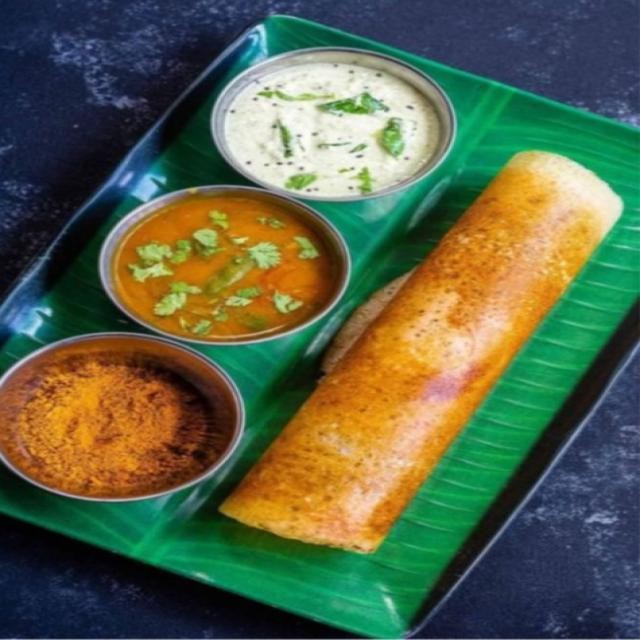DOSA: (213, 149, 621, 559)
PODI: (0, 334, 244, 503)
SAMBAR: (97, 187, 352, 346)
WHITE CHUTNEY: (210, 48, 455, 202)
